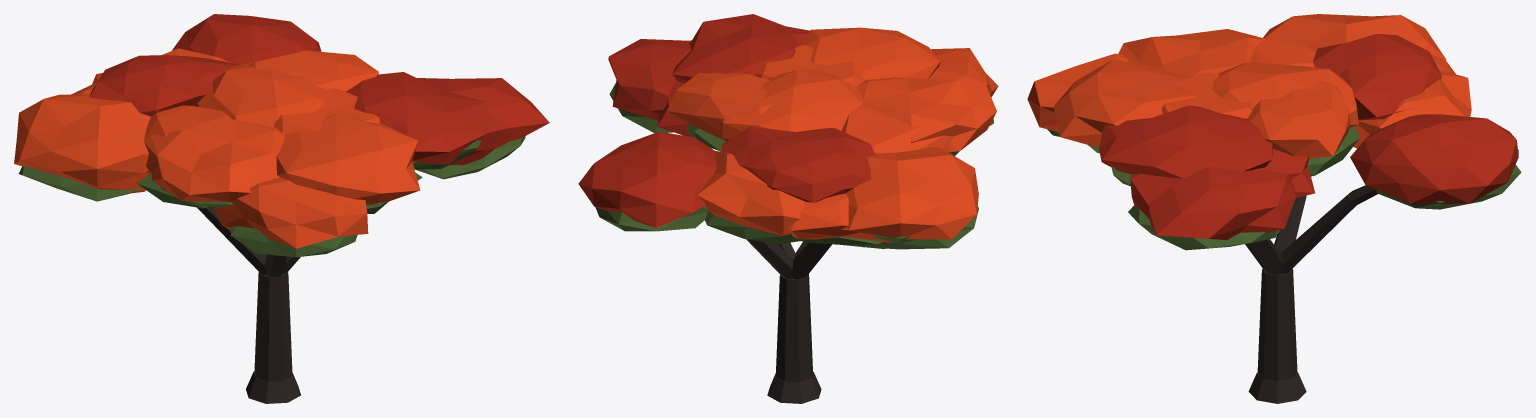
Rendered from AV_Tree_FlameTree.obj.
3 renders of one model, left to right at view 1: azimuth 30°, elevation 25°; view 2: azimuth 150°, elevation 25°; view 3: azimuth 270°, elevation 25°, orthographic. The views are drawn at different scales.
Visible parts, largest first — view 1: AV_Tree_FlameTree; view 2: AV_Tree_FlameTree; view 3: AV_Tree_FlameTree.
Part boxes in pixels (x1,y1,x2,y2): AV_Tree_FlameTree: (14,14,549,403); AV_Tree_FlameTree: (578,14,998,403); AV_Tree_FlameTree: (1027,14,1521,403).
Size of the model in its own units: 25 by 16.84 by 23.8.
